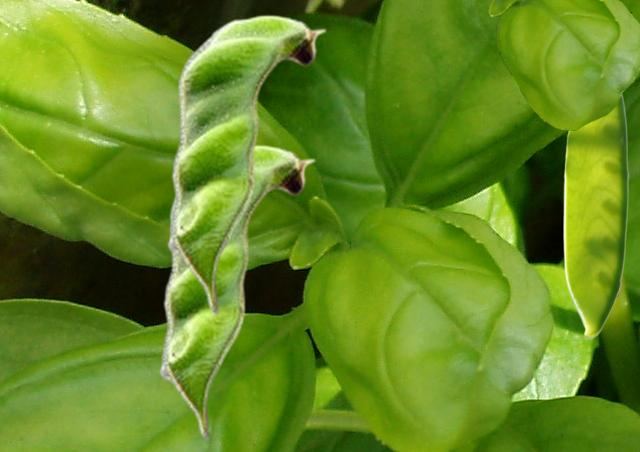pea: (166, 14, 326, 314), (158, 144, 315, 440), (563, 93, 628, 338)
